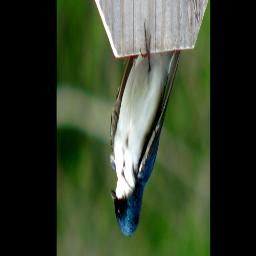Swallow: (109, 18, 182, 240)
